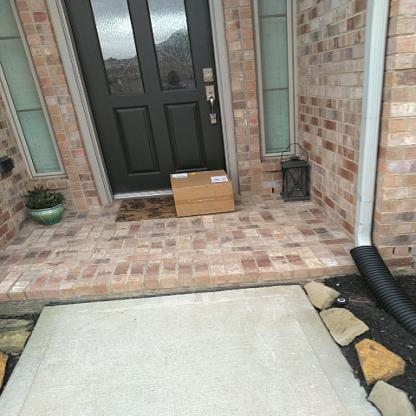package: (166, 170, 241, 218)
